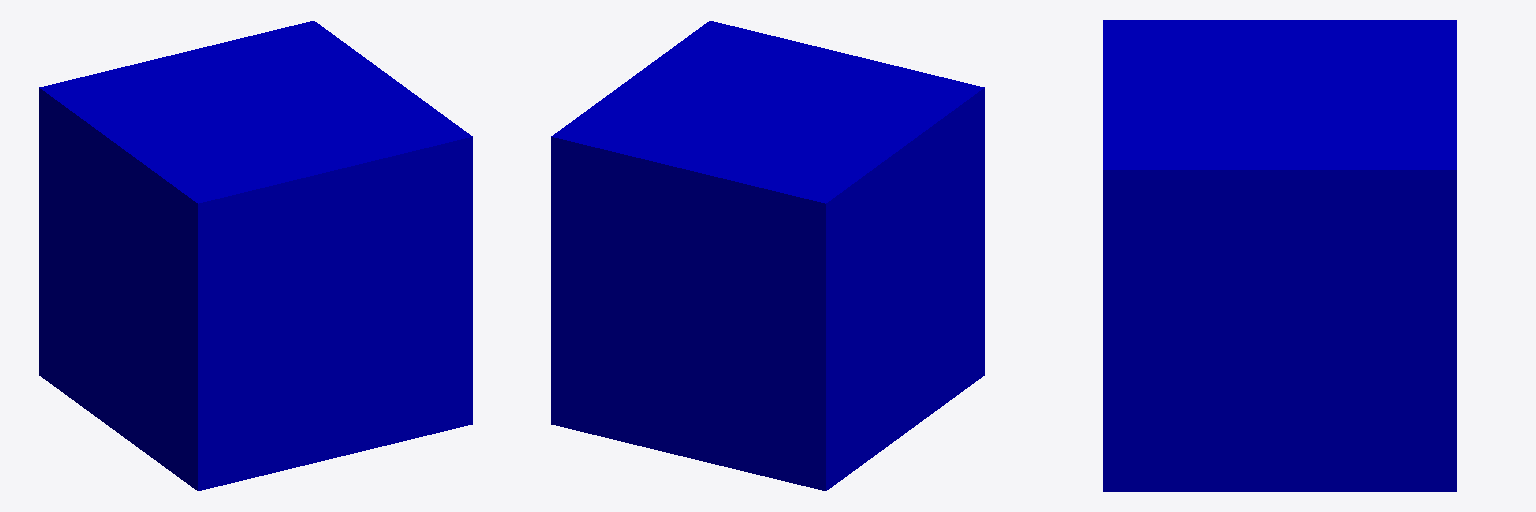
The robot description file, URDF, robot "cube":
<?xml version="1.0"?>
<robot name="cube">

  <link name="base_link">

    <contact>
        <lateral_friction value="2.0"/>
    </contact>

    <visual>
      <origin rpy="0 0 0" xyz="0 0 0"/>
      <geometry>
        <box size="0.04 0.04 0.04"/>
      </geometry>
      <material name="blue">
        <color rgba="0 0 .8 1"/>
      </material>
    </visual>

    <collision>
      <origin rpy="0 0 0" xyz="0 0 0"/>
      <geometry>
        <box size="0.04 0.04 0.04"/>
      </geometry>
    </collision>

    <inertial>
      <mass value="0.05"/>
      <origin rpy="0 0 0" xyz="0 0 0"/>
      <inertia ixx="1e-3" ixy="0.0" ixz="0.0" iyy="1e-3" iyz="0.0" izz="1e-3"/>
    </inertial>

  </link>

</robot>

--- Render facts (derived) ---
3 views of the same robot in one strip: view 1: azimuth 30°, elevation 25°; view 2: azimuth 150°, elevation 25°; view 3: azimuth 270°, elevation 25° (orthographic).
Robot: cube — 1 links, 0 joints (none); root link base_link; default pose: all joints at 0.
Links seen in each view (by area): view 1: base_link; view 2: base_link; view 3: base_link.
Boxes of the visible links, bbox=[...] form: base_link: bbox=[39, 21, 472, 490]; base_link: bbox=[551, 21, 984, 490]; base_link: bbox=[1103, 20, 1456, 491].
Bounding box of the posed robot: 0.04 × 0.04 × 0.04 m (x, y, z).
Geometry: primitives only (box / cylinder / sphere), no mesh files.